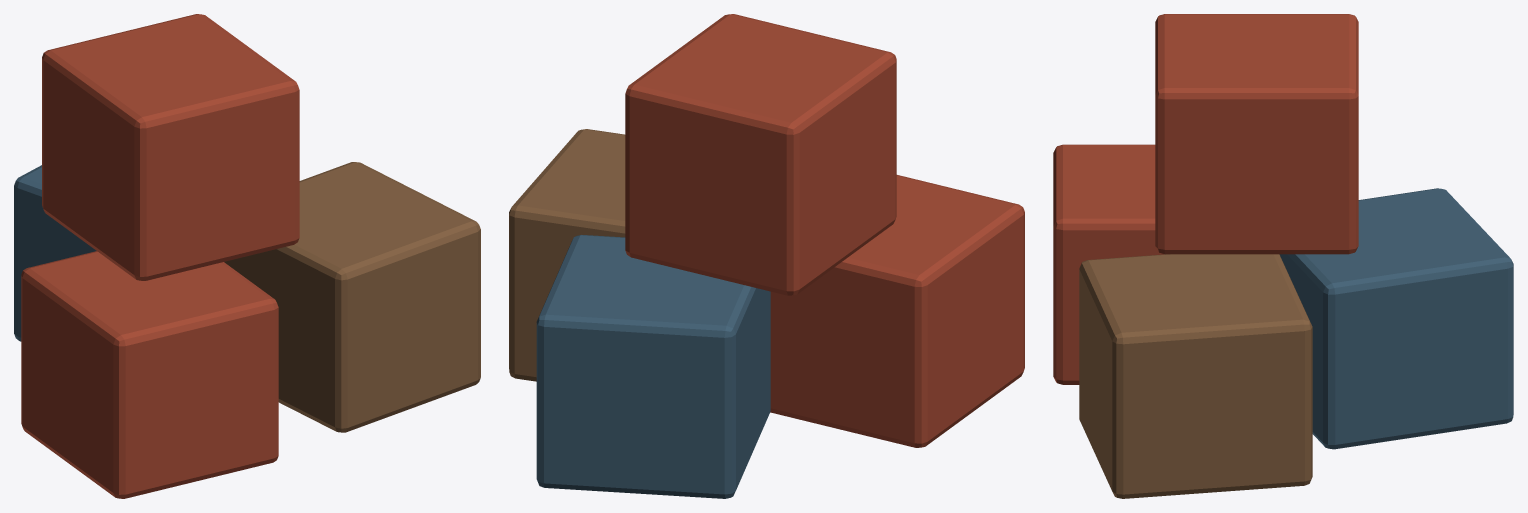
File: toy-blocks.fbx
3 views of the same model, side by side, from view 1: azimuth 30°, elevation 25°; view 2: azimuth 150°, elevation 25°; view 3: azimuth 270°, elevation 25° (orthographic). The views are drawn at different scales.
Visible parts, largest first — view 1: Painted alphabet block.003, Painted alphabet block, Painted alphabet block.001, Painted alphabet block.002; view 2: Painted alphabet block.003, Painted alphabet block.002, Painted alphabet block, Painted alphabet block.001; view 3: Painted alphabet block.001, Painted alphabet block.003, Painted alphabet block.002, Painted alphabet block.
Boxes of the visible parts, x1,y1,x2,y2 form: Painted alphabet block.003: [42, 14, 299, 280]; Painted alphabet block: [21, 251, 278, 498]; Painted alphabet block.001: [224, 162, 480, 432]; Painted alphabet block.002: [14, 165, 96, 341]; Painted alphabet block.003: [625, 14, 896, 295]; Painted alphabet block.002: [536, 235, 770, 498]; Painted alphabet block: [770, 175, 1024, 447]; Painted alphabet block.001: [509, 129, 625, 381]; Painted alphabet block.001: [1079, 254, 1312, 498]; Painted alphabet block.003: [1155, 14, 1358, 254]; Painted alphabet block.002: [1279, 188, 1513, 449]; Painted alphabet block: [1053, 144, 1164, 384].
Bounding box in the file's own units: 0.3787 × 0.3 × 0.3773.
